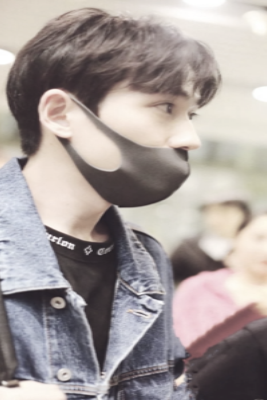mask_weared_incorrect: (68, 97, 201, 207)
